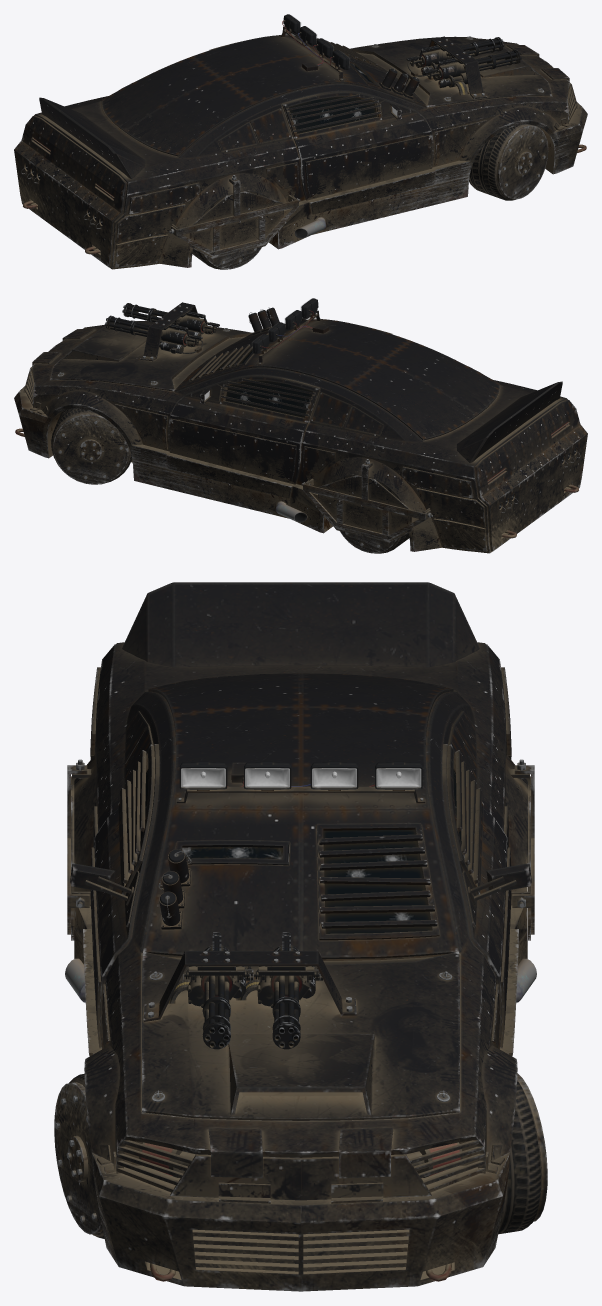
The model's file is armored-car-death-race.glb.
The picture shows the model from 3 angles, top to bottom: view 1: azimuth 30°, elevation 25°; view 2: azimuth 150°, elevation 25°; view 3: azimuth 270°, elevation 25°; orthographic projection. The views are drawn at different scales.
Parts seen in each view (by area): view 1: Car01, Car01_WheelRearRear (×2); view 2: Car01, Car01_WheelRearLeft (×2); view 3: Car01, Car01_WheelRearRear, Car01_WheelRearLeft.
Boxes of the visible parts, x1=… form: Car01: x1=14, y1=14, x2=587, y2=269; Car01_WheelRearRear (×2): x1=192, y1=124, x2=548, y2=269; Car01: x1=14, y1=298, x2=587, y2=553; Car01_WheelRearLeft (×2): x1=51, y1=408, x2=409, y2=553; Car01: x1=65, y1=582, x2=536, y2=1291; Car01_WheelRearRear: x1=54, y1=1073, x2=104, y2=1238; Car01_WheelRearLeft: x1=498, y1=1073, x2=547, y2=1234.
Size of the model in its own units: 490 by 149 by 207.
2 materials, 2 textured.
